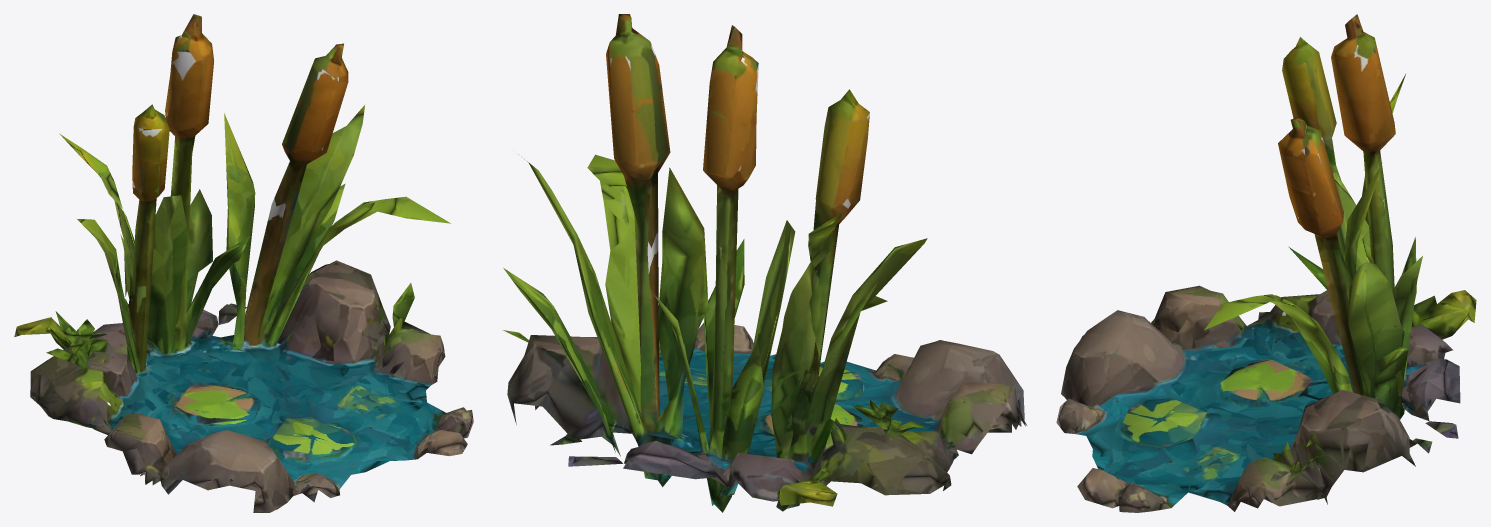
Rendered from dec_reeds.glb.
3 views of the same model, side by side, from view 1: azimuth 30°, elevation 25°; view 2: azimuth 150°, elevation 25°; view 3: azimuth 270°, elevation 25° (orthographic). The views are drawn at different scales.
Parts seen in each view (by area): view 1: BakeLow; view 2: BakeLow; view 3: BakeLow.
Part boxes in pixels (bbox=[...]): BakeLow: bbox=[14, 14, 473, 512]; BakeLow: bbox=[502, 14, 1026, 512]; BakeLow: bbox=[1056, 14, 1476, 512].
Size of the model in its own units: 0.7689 by 0.7639 by 0.6992.
Materials: 1 (1 with a texture image).
